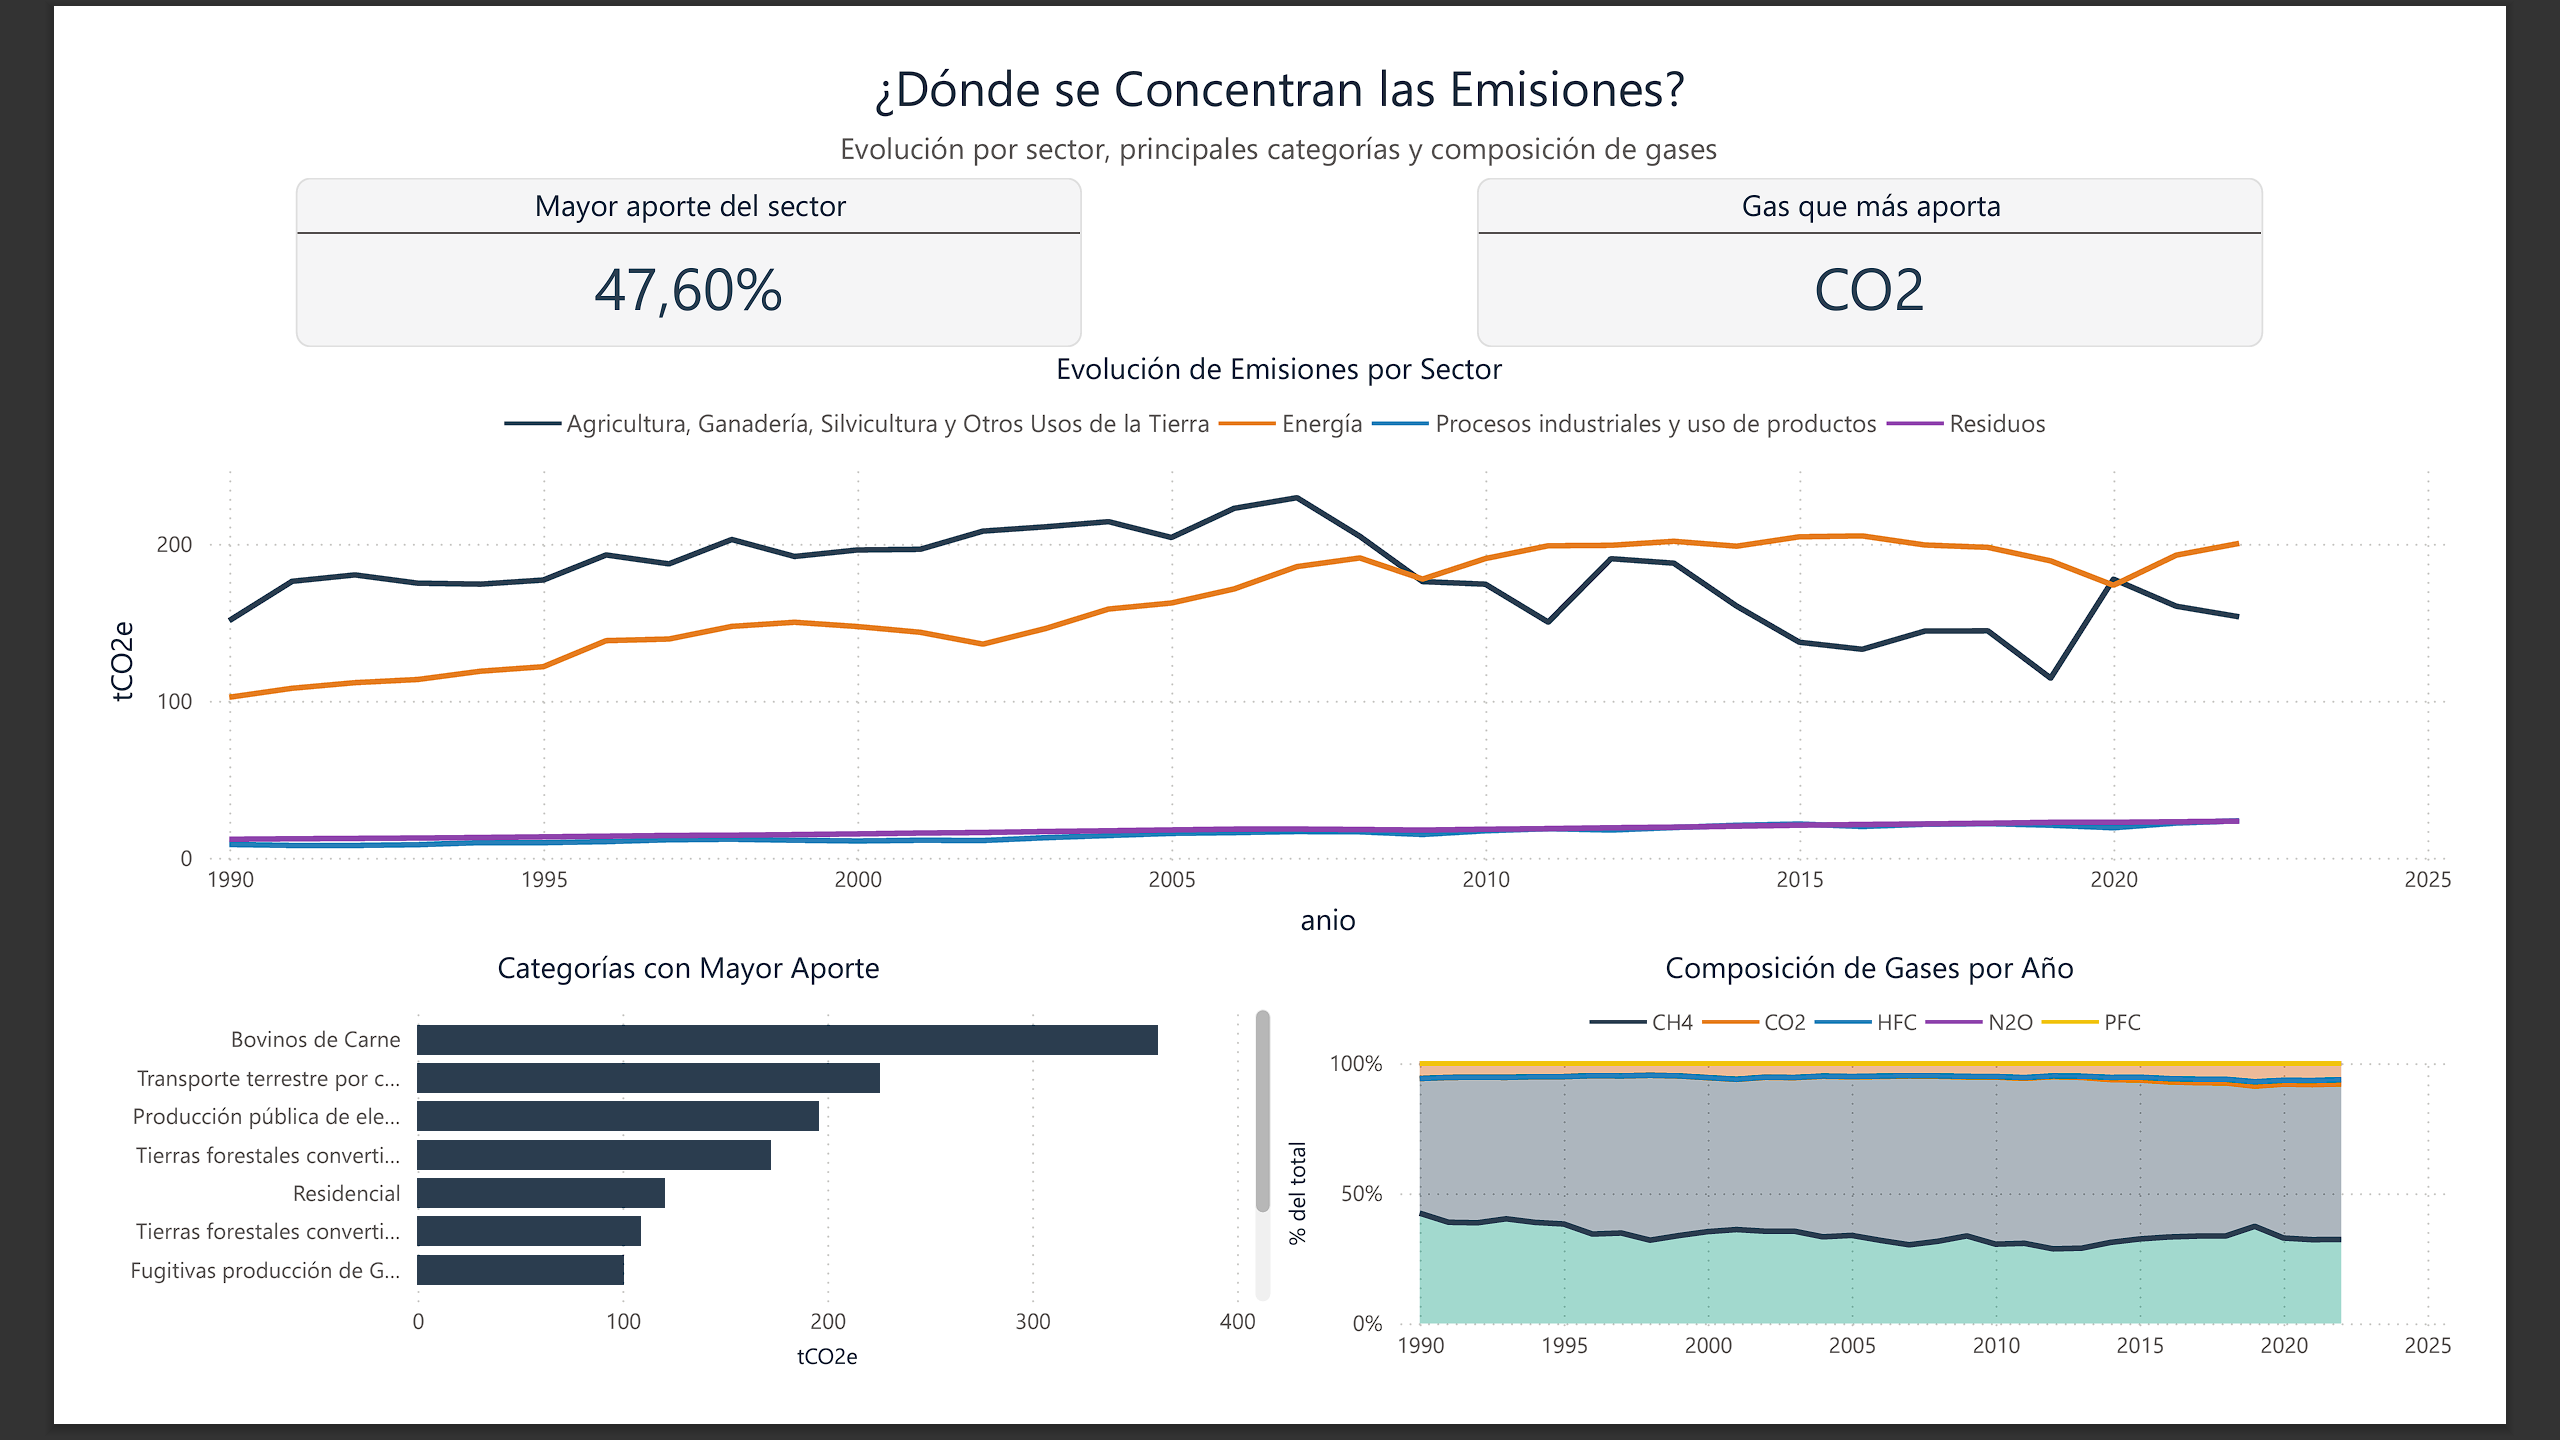

This screenshot's page, from the dashboard's own definition file:
{"tool":"powerbi","page":{"name":"Concentración por Sector y Gas","canvas":[1280,720],"ordinal":1},"visuals":[{"type":"card","title":"Mayor aporte del sector","fields":{"Values":["9- Totales_sector.Participacion Sector Lider %"]},"box":[107.3,68.7,425.4,92.3],"z":0},{"type":"card","title":"Gas que más aporta","fields":{"Values":["6- Composicion_gas_anual.Gas Lider"]},"box":[747.3,68.7,425.4,92.3],"z":1000},{"type":"lineChart","title":"Evolución de Emisiones por Sector","fields":{"Category":["7- Evolucion_sector_anual.anio"],"Series":["7- Evolucion_sector_anual.sector"],"Y":["Sum(7- Evolucion_sector_anual.total_tco2e)"]},"box":[0,161,1280,324.6],"z":2000},{"type":"clusteredBarChart","title":"Categorías con Mayor Aporte","fields":{"Category":["8- Top_categorias_recientes.categoria"],"Y":["Sum(8- Top_categorias_recientes.total_tco2e)"]},"box":[0,485.6,640,234.3],"z":3000},{"type":"hundredPercentStackedAreaChart","title":"Composición de Gases por Año","fields":{"Category":["6- Composicion_gas_anual.anio"],"Y":["Sum(6- Composicion_gas_anual.total_tco2e)"],"Series":["6- Composicion_gas_anual.tipo_de_gas"]},"box":[640,485.6,640,234.3],"z":4000},{"type":"textbox","title":"¿Dónde se Concentran las Emisiones?","box":[0,1.3,1280,67.4],"z":5000}]}

Visuals, with their boxes in screenshot pixels (x1, y1, x2, y2), scaled from the page's 1280x720 canvas onto the 2560x1440 screenshot:
"Mayor aporte del sector" card: x1=215 y1=137 x2=1065 y2=322
"Gas que más aporta" card: x1=1495 y1=137 x2=2345 y2=322
"Evolución de Emisiones por Sector" lineChart: x1=0 y1=322 x2=2559 y2=971
"Categorías con Mayor Aporte" clusteredBarChart: x1=0 y1=971 x2=1280 y2=1439
"Composición de Gases por Año" hundredPercentStackedAreaChart: x1=1280 y1=971 x2=2559 y2=1439
"¿Dónde se Concentran las Emisiones?" textbox: x1=0 y1=3 x2=2559 y2=137
